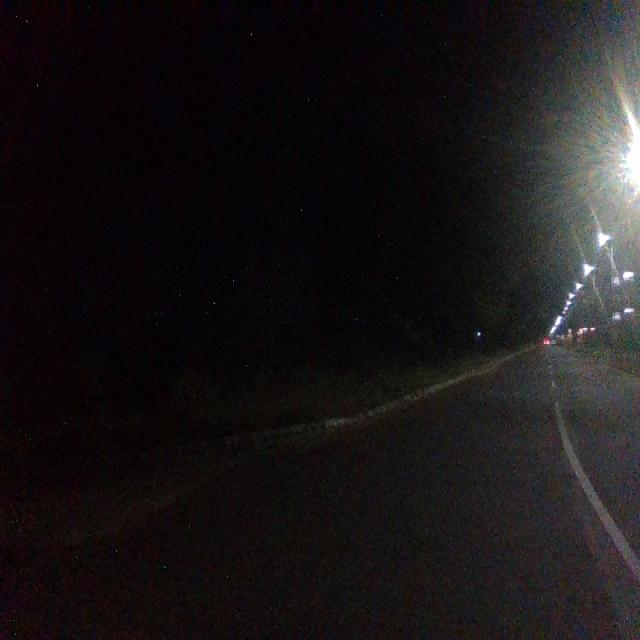lane: (2, 353, 640, 640)
